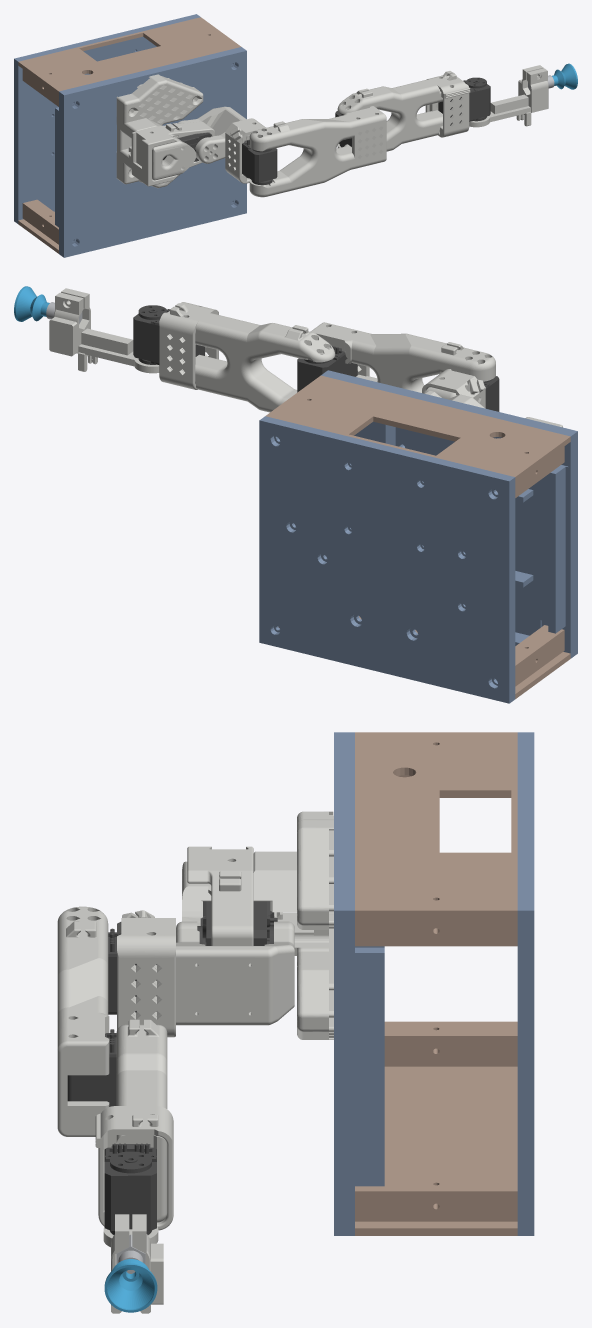
Rendered from assembly_zero.glb.
The picture shows the model from 3 angles, top to bottom: view 1: azimuth 30°, elevation 25°; view 2: azimuth 150°, elevation 25°; view 3: azimuth 270°, elevation 25°; orthographic projection. The views are drawn at different scales.
Visible parts, largest first — view 1: base_link_box_plate, base_link_box_wall, base_link_print, link2_print, link3_print, link1_print, tool_link_print, link1_servo, link3_servo, tool_link_cup; view 2: base_link_box_plate, base_link_box_wall, link3_print, link2_print, tool_link_print, link3_servo, link1_print, link2_servo, tool_link_cup; view 3: base_link_box_wall, base_link_box_plate, base_link_print, link1_print, link2_print, link3_print, link3_servo, tool_link_print, tool_link_cup, link2_servo, base_link_servo, link1_servo.
Part boxes in pixels (<box>): base_link_box_plate: <box>14,14,246,257</box>; base_link_box_wall: <box>18,17,241,253</box>; base_link_print: <box>116,74,214,188</box>; link2_print: <box>249,106,386,197</box>; link3_print: <box>337,71,470,151</box>; link1_print: <box>177,106,265,183</box>; tool_link_print: <box>469,65,548,127</box>; link1_servo: <box>242,139,277,185</box>; link3_servo: <box>438,77,490,125</box>; tool_link_cup: <box>552,63,577,89</box>; base_link_box_plate: <box>259,370,577,703</box>; base_link_box_wall: <box>265,375,570,698</box>; link3_print: <box>159,302,335,412</box>; link2_print: <box>310,322,495,392</box>; tool_link_print: <box>49,288,159,373</box>; link3_servo: <box>133,305,204,364</box>; link1_print: <box>422,369,485,407</box>; link2_servo: <box>297,346,357,392</box>; tool_link_cup: <box>14,286,49,321</box>; base_link_box_wall: <box>355,732,517,1235</box>; base_link_box_plate: <box>334,732,534,1235</box>; base_link_print: <box>182,811,333,1039</box>; link1_print: <box>117,910,294,1037</box>; link2_print: <box>57,906,109,1136</box>; link3_print: <box>95,1019,173,1230</box>; link3_servo: <box>104,1143,156,1234</box>; tool_link_print: <box>103,1214,163,1313</box>; tool_link_cup: <box>104,1259,157,1312</box>; link2_servo: <box>67,1029,116,1106</box>; base_link_servo: <box>197,901,277,945</box>; link1_servo: <box>108,928,156,1014</box>.
Bounding box in the file's own units: 0.4996 × 0.17 × 0.226.
